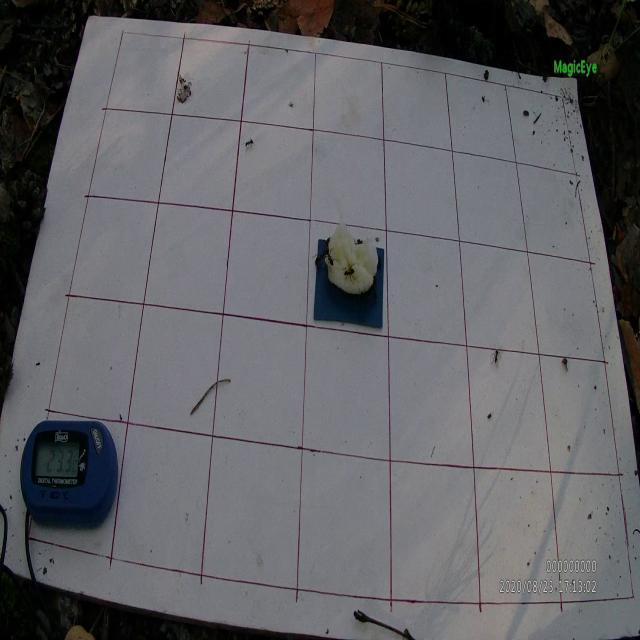Ant: (326, 248, 338, 274), (343, 264, 357, 285), (491, 343, 501, 370), (241, 136, 255, 153), (312, 250, 326, 266)
